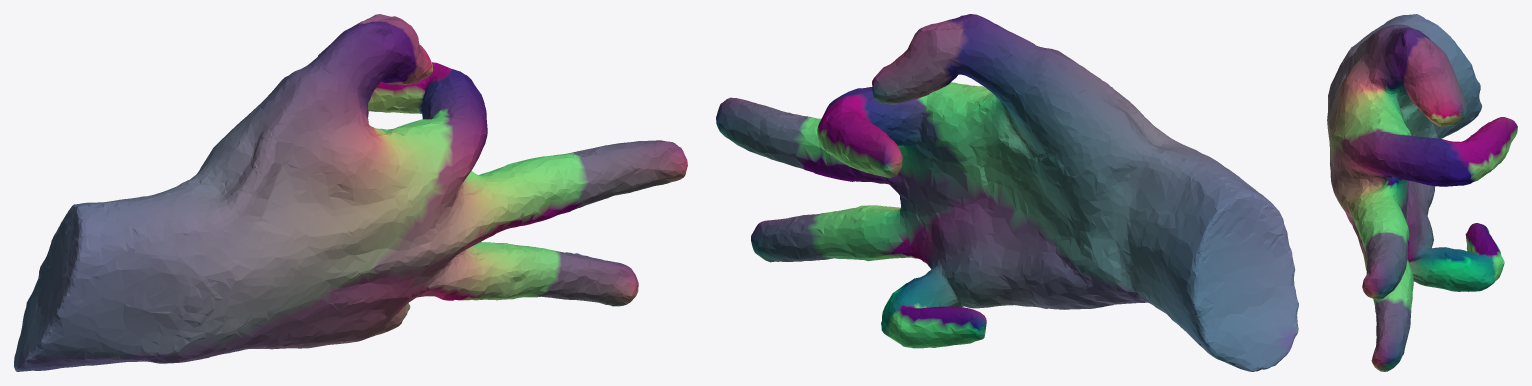
Rendered from hand-14.off.obj.
The picture shows the model from 3 angles, left to right: view 1: azimuth 30°, elevation 25°; view 2: azimuth 150°, elevation 25°; view 3: azimuth 270°, elevation 25°; orthographic projection. The views are drawn at different scales.
Size of the model in its own units: 1.73 by 0.8483 by 0.582.
